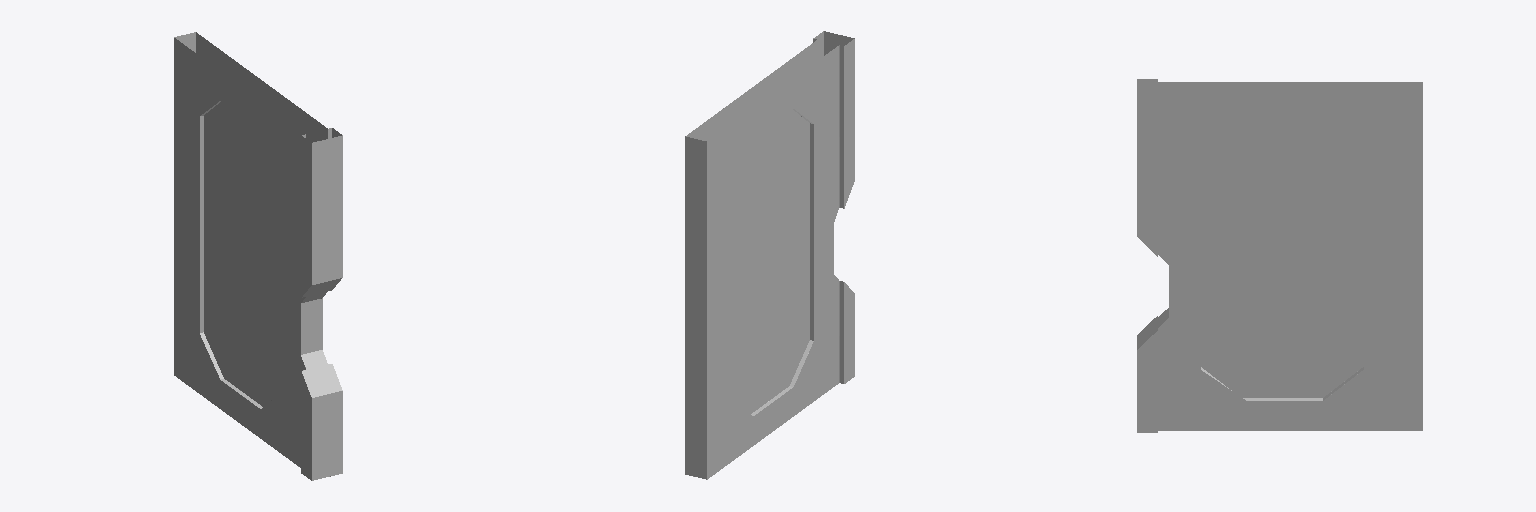
File: leftDoor.obj
The picture shows the model from 3 angles: view 1: azimuth 30°, elevation 25°; view 2: azimuth 150°, elevation 25°; view 3: azimuth 270°, elevation 25°; orthographic projection.
Parts seen in each view (by area): view 1: pCube61 group3 group1; view 2: pCube61 group3 group1; view 3: pCube61 group3 group1.
Boxes of the visible parts, x1=… form: pCube61 group3 group1: x1=174, y1=32, x2=342, y2=480; pCube61 group3 group1: x1=685, y1=31, x2=854, y2=479; pCube61 group3 group1: x1=1137, y1=79, x2=1422, y2=432.
Bounding box in the file's own units: 0.2739 × 2.85 × 2.18.